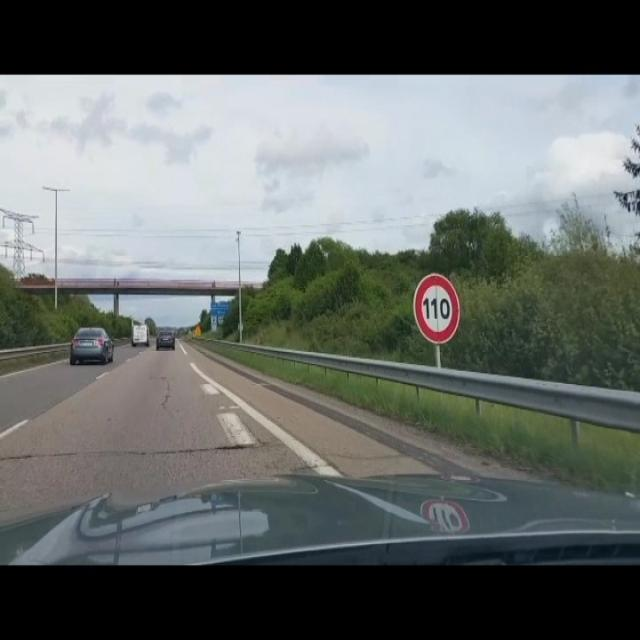speed_110: (412, 272, 461, 346)
